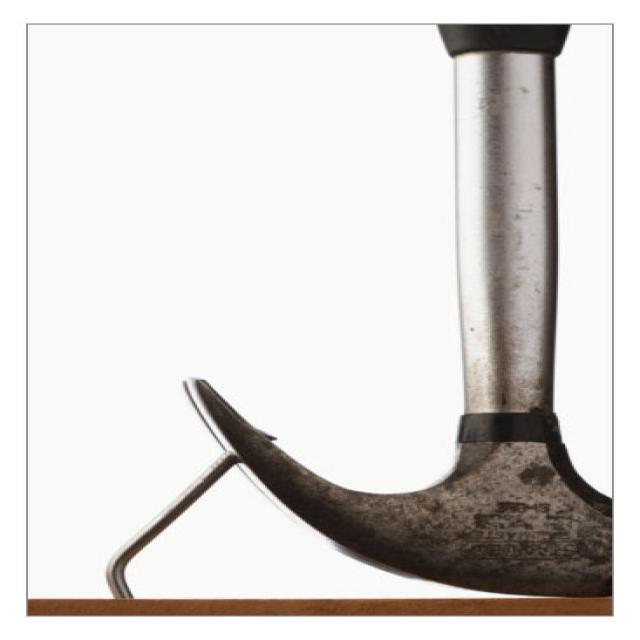hammer: (183, 22, 640, 640)
